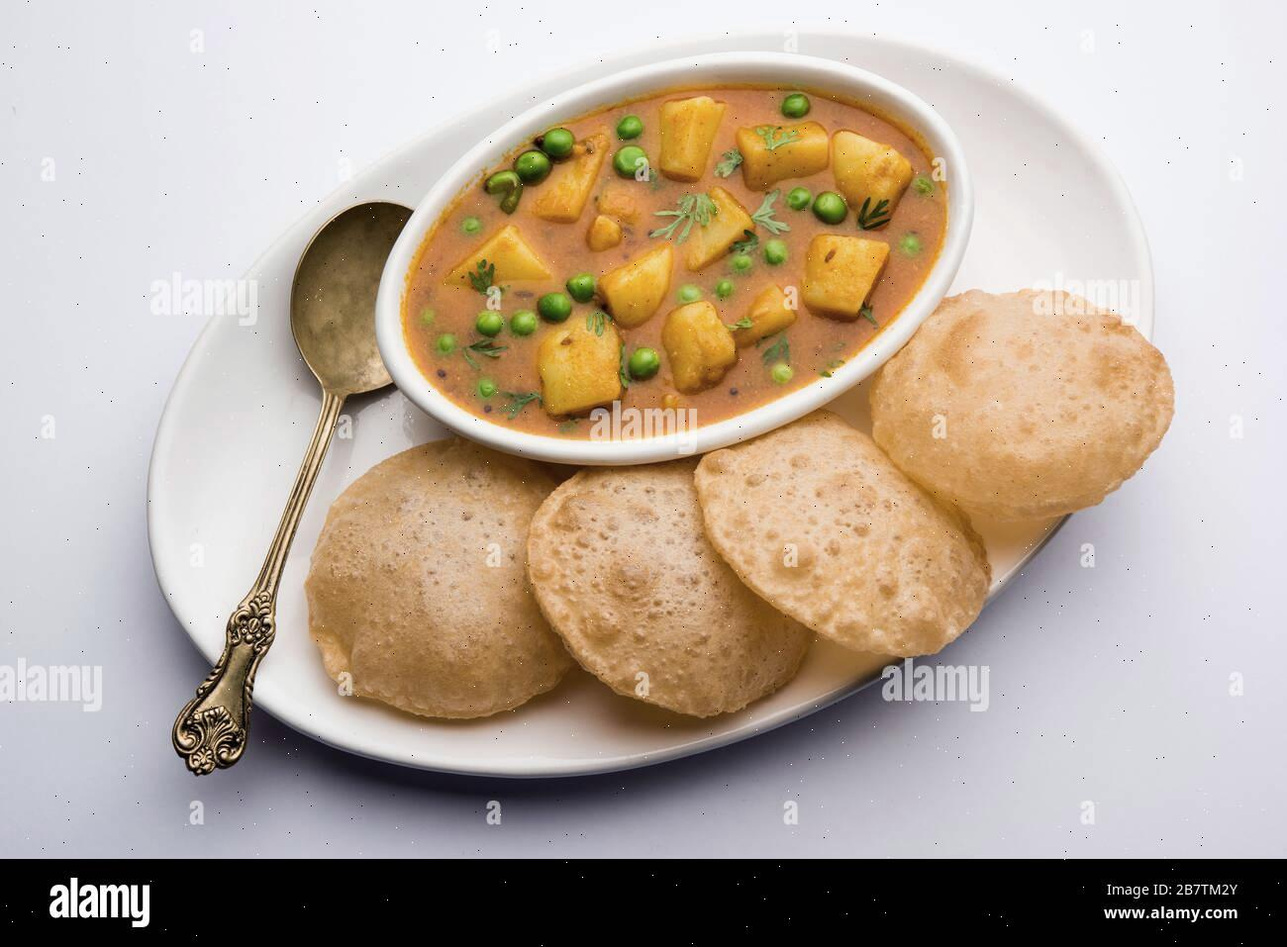puri: (332, 473, 985, 700)
